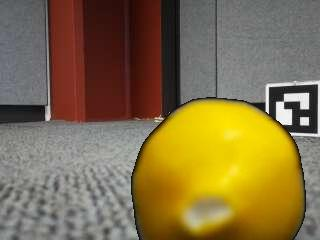lemon: (134, 98, 304, 240)
